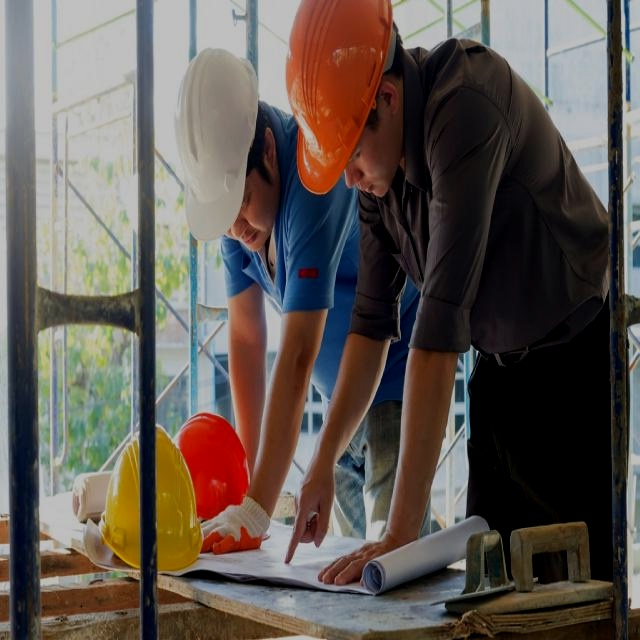Con_Casco: (173, 49, 281, 251), (290, 0, 402, 194)
